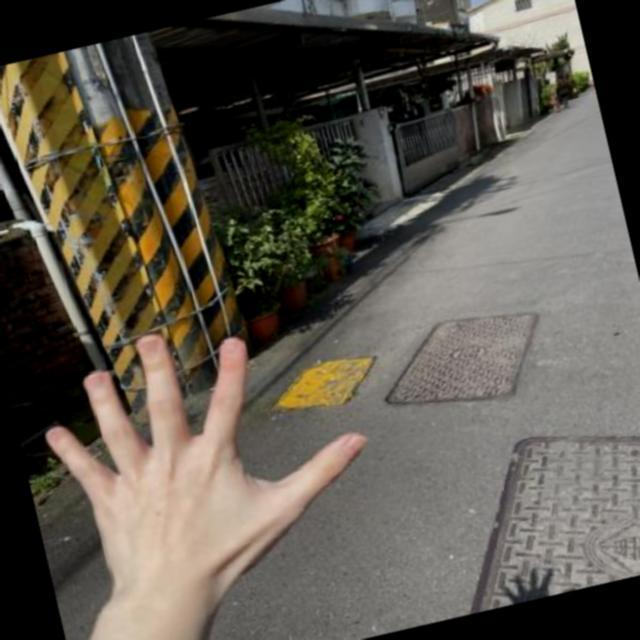hand: (1, 281, 416, 640)
